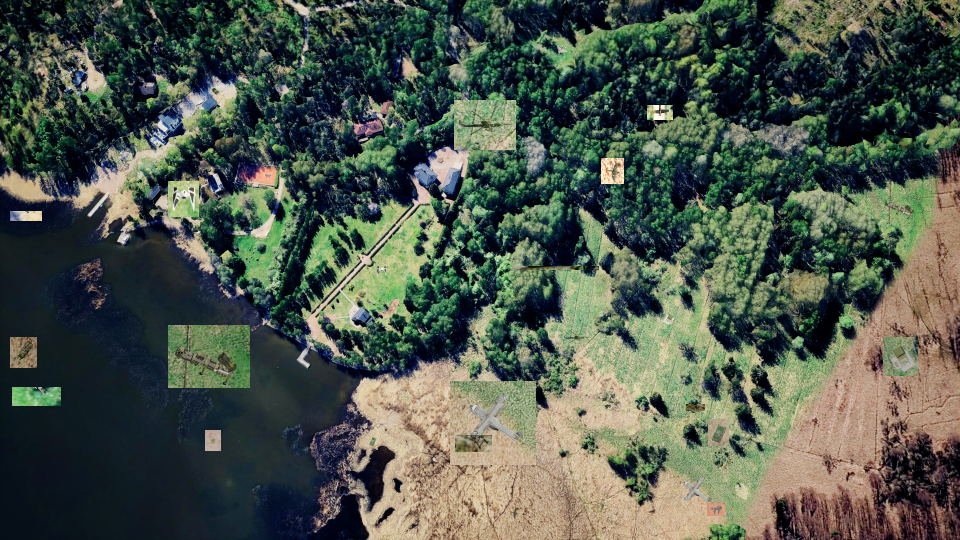condor: (450, 381, 536, 465)
hangar: (516, 266, 599, 270)
helicopter: (454, 100, 516, 150)
jammer: (708, 419, 729, 446)
jet_plane: (12, 387, 61, 406)
large_launcher: (168, 325, 250, 388)
large_tower: (455, 435, 492, 452)
medium_launcher: (686, 404, 705, 411)
medium_plane: (647, 105, 673, 120)
mine_roller: (10, 337, 37, 368)
small_launcher: (205, 430, 221, 451)
small_plane: (601, 158, 624, 184)
small_tower: (883, 337, 918, 376)
spacecraft: (168, 181, 199, 217)
ta-ta: (707, 503, 725, 516)
tank: (10, 211, 42, 221)
